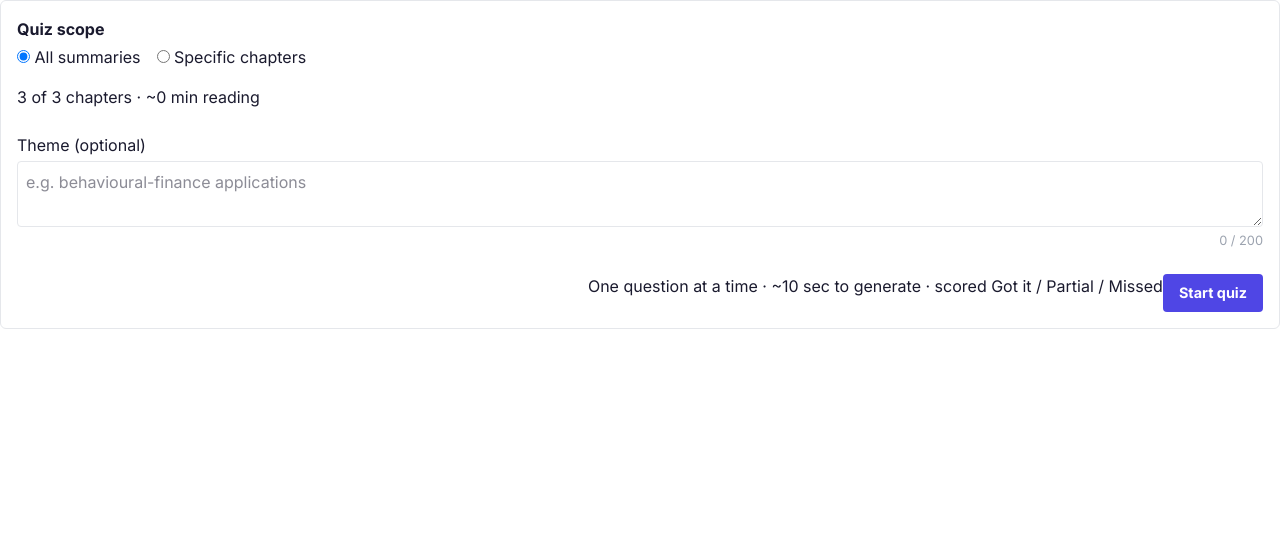
Test: ScopePicker — budget enforcement › Start button disabled with helper text when 0 chapters in specific-chapters mode
This screenshot has width=1280, height=553.
Click the radio button with test id "scope-mode-specific" at point(163, 56), box [156,50,170,63]
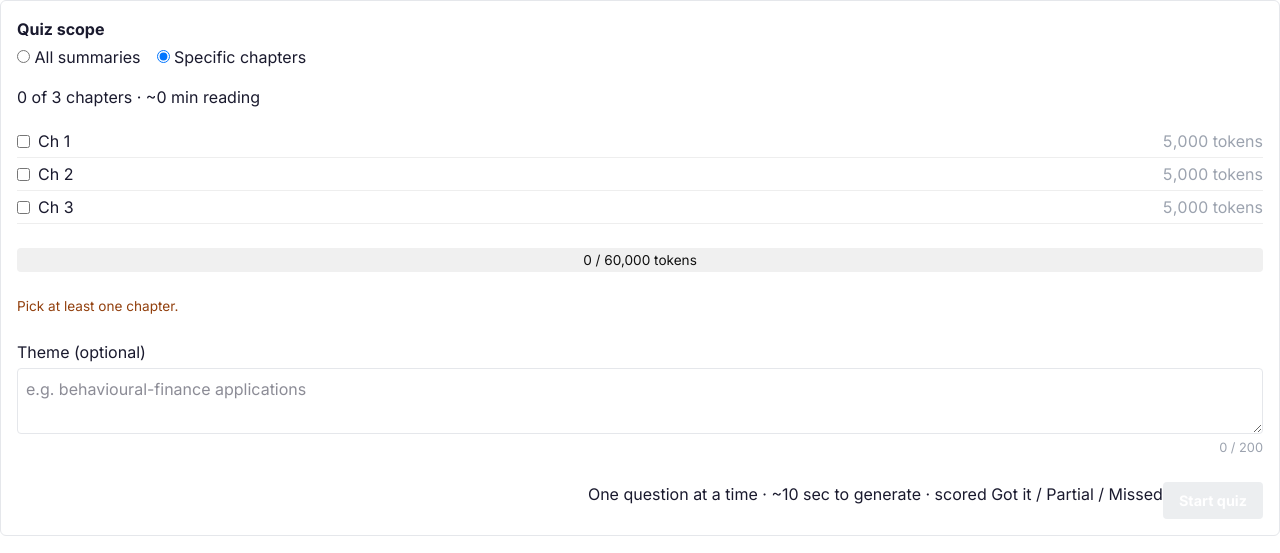
Expected: the button with test id "start" is disabled, [1163,482,1263,519]
Result: the text "Pick at least one chapter." is shown at [17,298,178,314]
